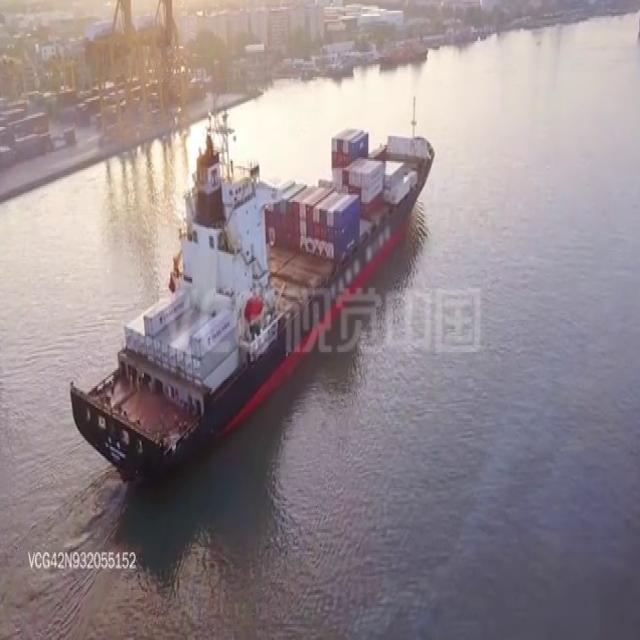cargoship: (62, 118, 432, 484)
